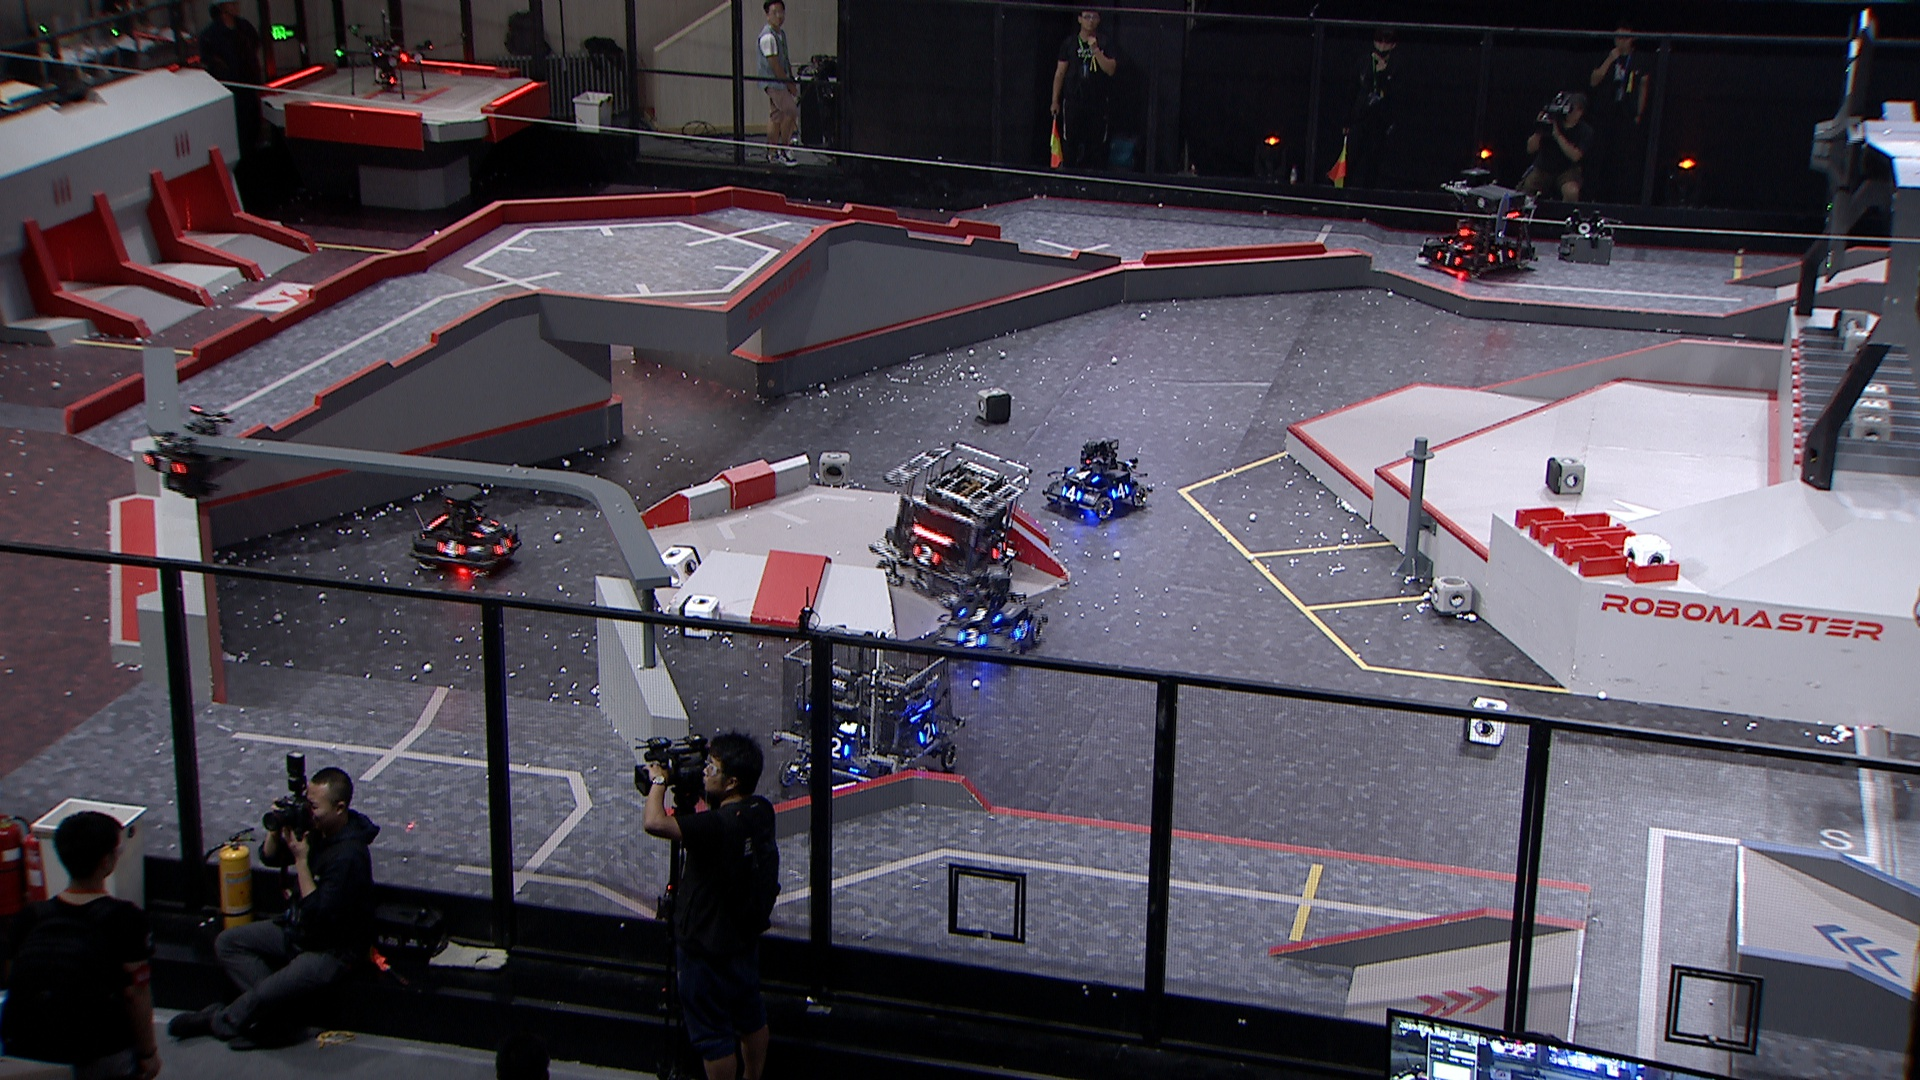armor: (138, 451, 186, 477), (909, 542, 942, 566), (436, 535, 467, 560), (956, 607, 1004, 622), (956, 626, 986, 650), (1065, 465, 1101, 484), (469, 517, 498, 538), (1433, 248, 1462, 268), (1485, 248, 1514, 266), (827, 735, 851, 757), (1011, 617, 1033, 642), (916, 723, 938, 745), (491, 535, 513, 555), (1060, 485, 1084, 504), (1444, 235, 1472, 251), (992, 537, 1010, 560), (1110, 480, 1130, 501)
car: (775, 618, 961, 796), (870, 436, 1036, 604), (1410, 166, 1538, 276), (927, 567, 1044, 665), (406, 481, 524, 576), (1040, 436, 1150, 520)
watcher: (138, 404, 237, 498)
